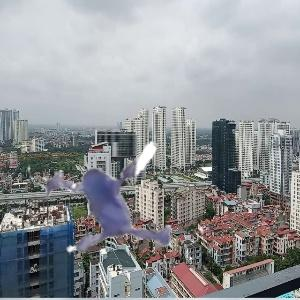drone: (23, 77, 240, 294)
